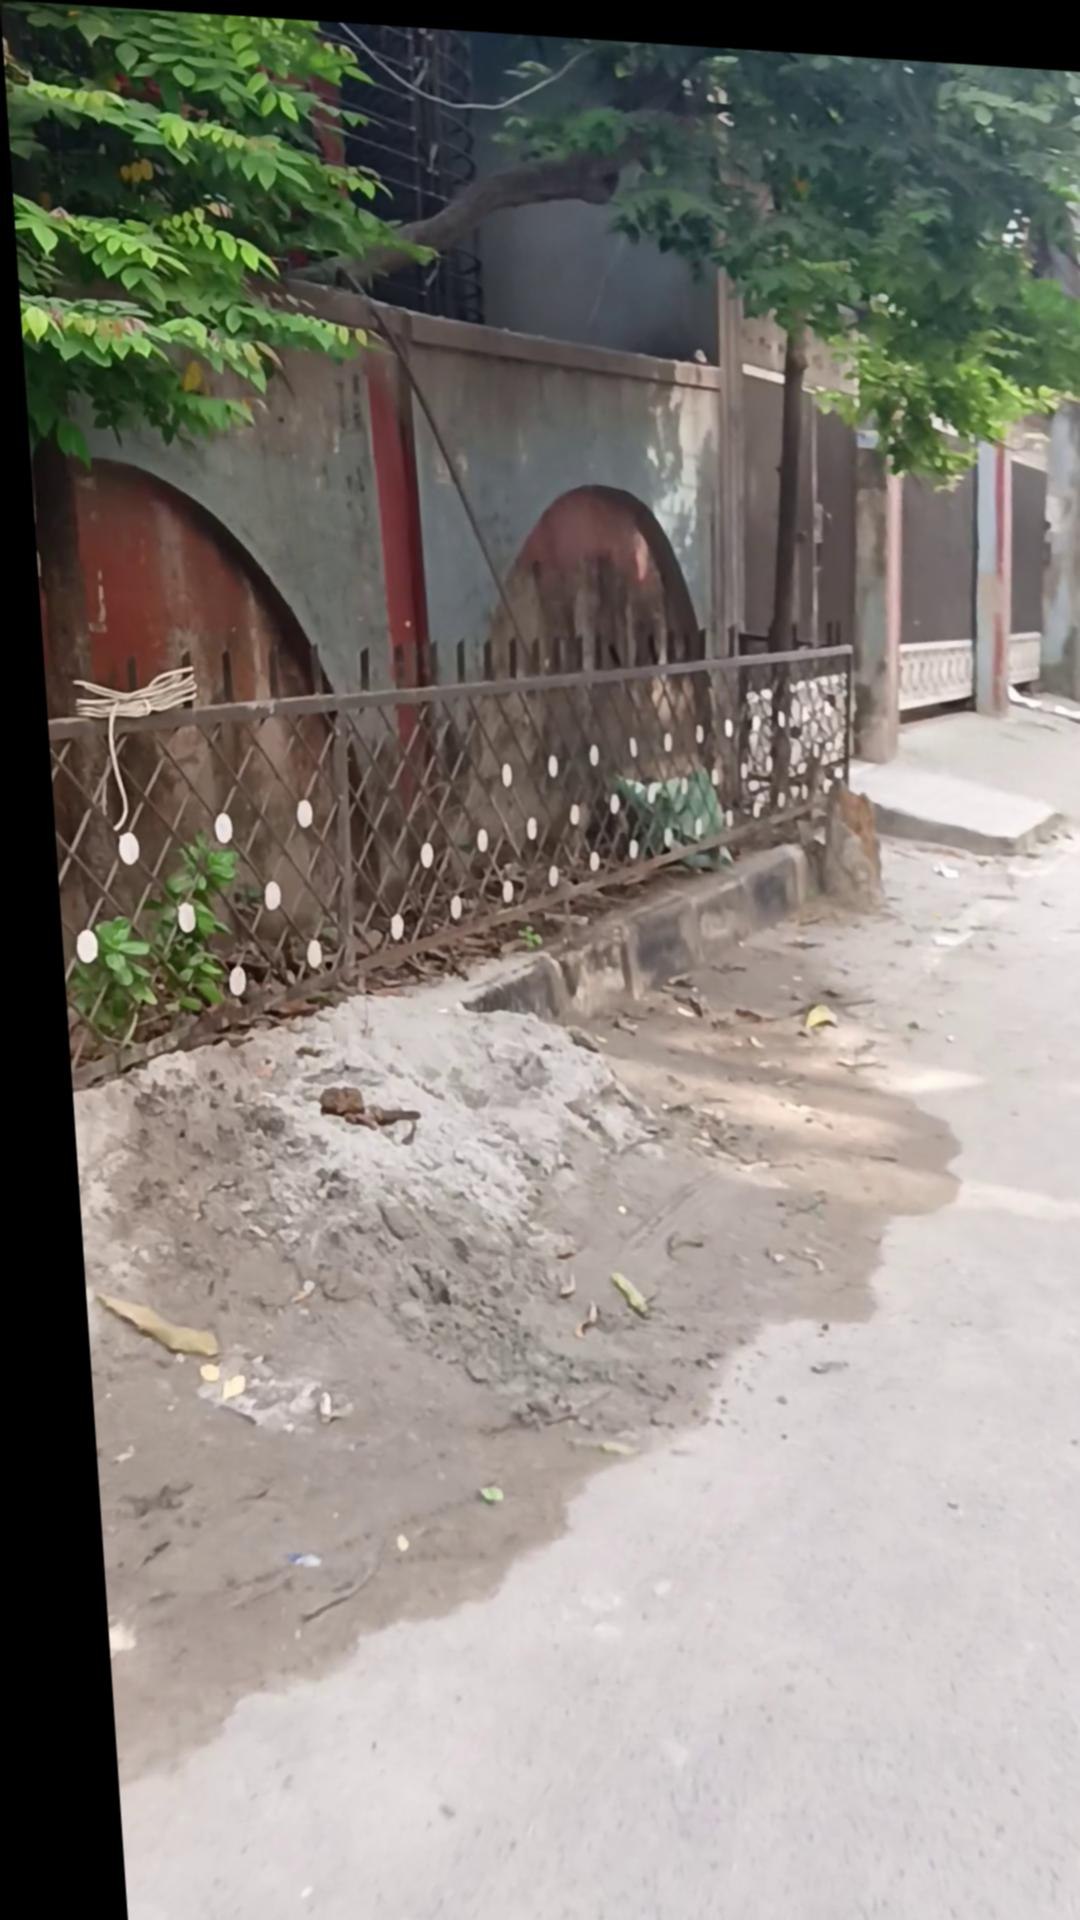Broken-road: (433, 807, 811, 1031), (832, 741, 1059, 845), (880, 607, 1039, 715)
Car: (30, 571, 876, 1134)
Garbage: (33, 618, 1080, 1920)
Light-pole: (0, 1, 1080, 520)
